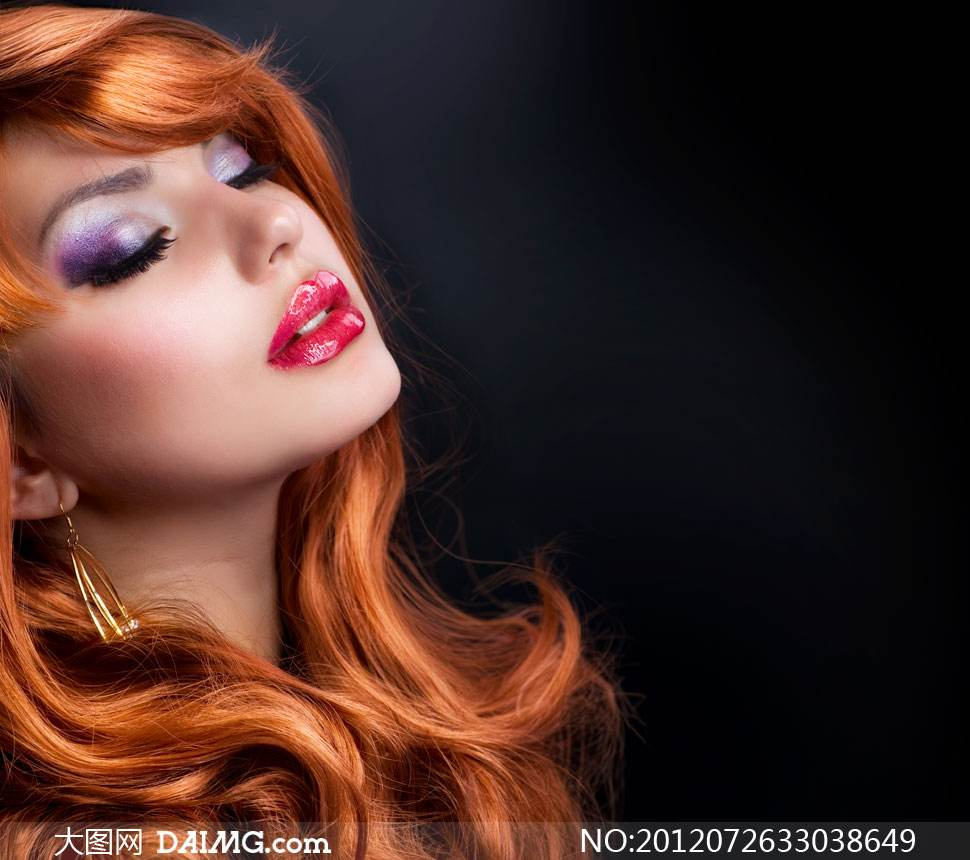person: (1, 22, 570, 809)
